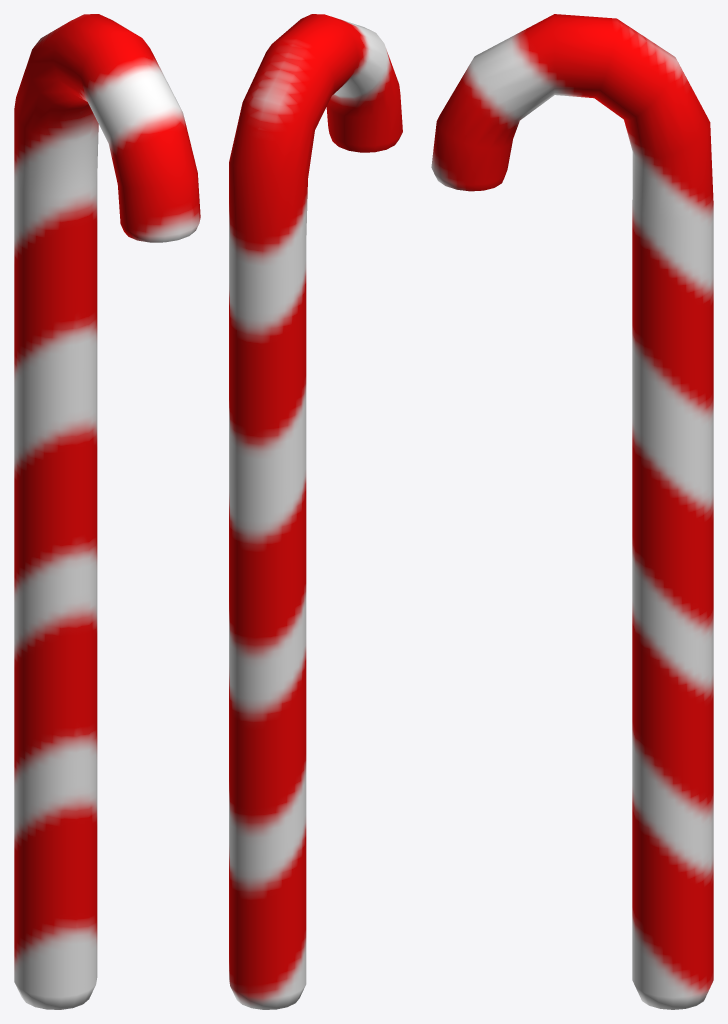
File: bastoncino di zucchero.fbx
3 views of the same model, side by side, from view 1: azimuth 30°, elevation 25°; view 2: azimuth 150°, elevation 25°; view 3: azimuth 270°, elevation 25° (orthographic). The views are drawn at different scales.
Parts seen in each view (by area): view 1: bastoncino; view 2: bastoncino; view 3: bastoncino.
Boxes of the visible parts, x1,y1,x2,y2 form: bastoncino: (14,14,200,1009); bastoncino: (229,14,402,1009); bastoncino: (431,14,713,1009).
Bounding box in the file's own units: 0.2289 × 2.95 × 0.7669.
